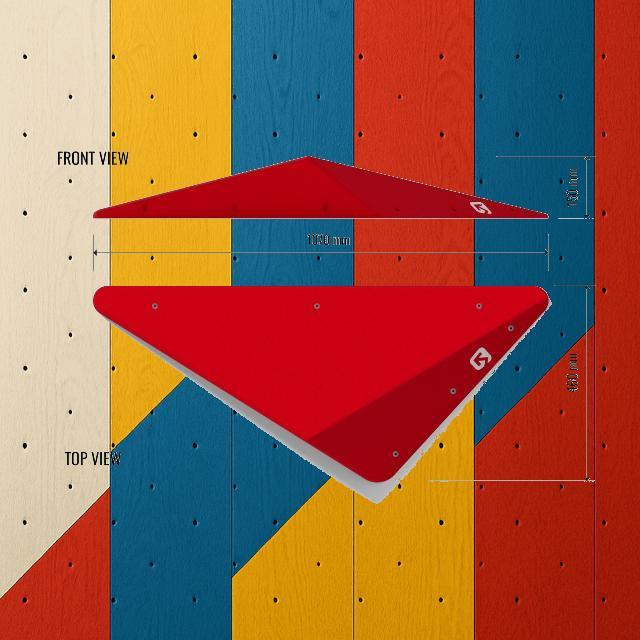Volume: (93, 284, 551, 482), (91, 154, 549, 220)
